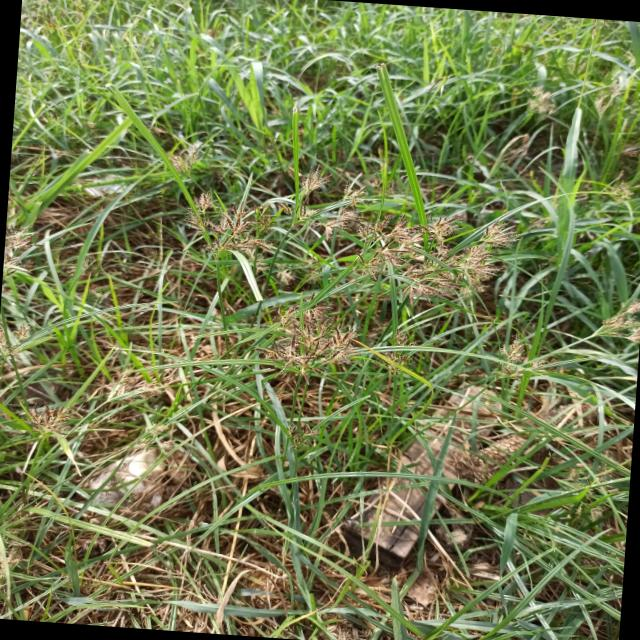cyperus: (352, 204, 518, 303), (246, 290, 370, 383), (175, 185, 272, 260), (276, 160, 369, 237), (142, 122, 208, 176), (493, 330, 544, 384), (20, 400, 78, 442), (2, 222, 40, 284), (594, 296, 640, 343), (379, 328, 421, 376), (0, 319, 32, 367), (599, 168, 637, 206), (524, 82, 559, 119), (592, 83, 626, 119)
